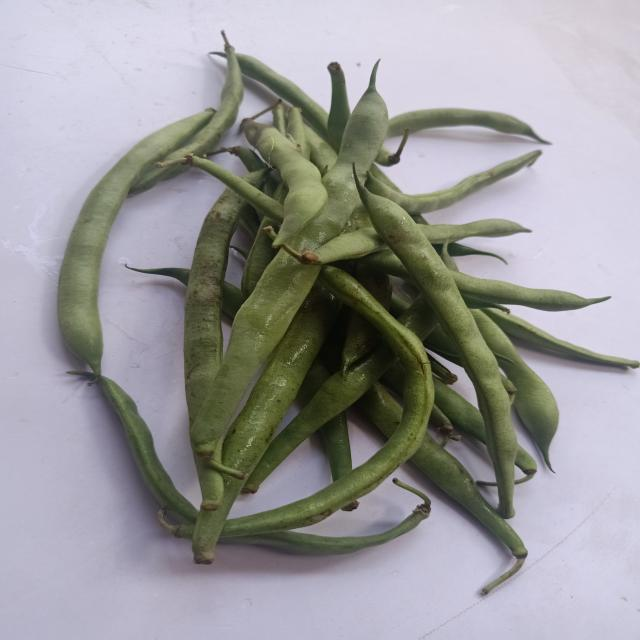Beans: (221, 266, 434, 537), (355, 174, 518, 519), (56, 109, 214, 377), (190, 250, 320, 462), (274, 64, 388, 251), (94, 376, 198, 526), (183, 189, 246, 427), (164, 30, 243, 159), (128, 167, 186, 194), (197, 466, 221, 510)
